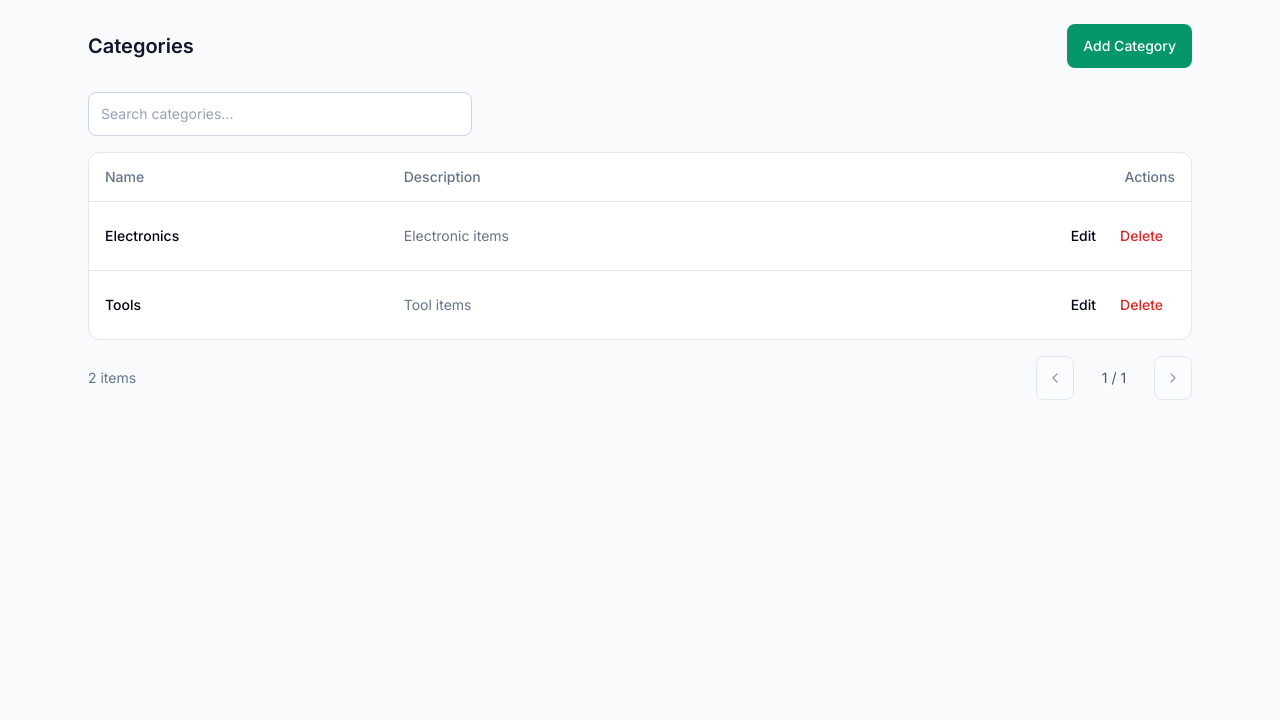
Test: CategoriesPage › cancels delete dialog
Click the button "Delete" in the row of "Electronics": (1142, 236) [1108,218,1175,254]
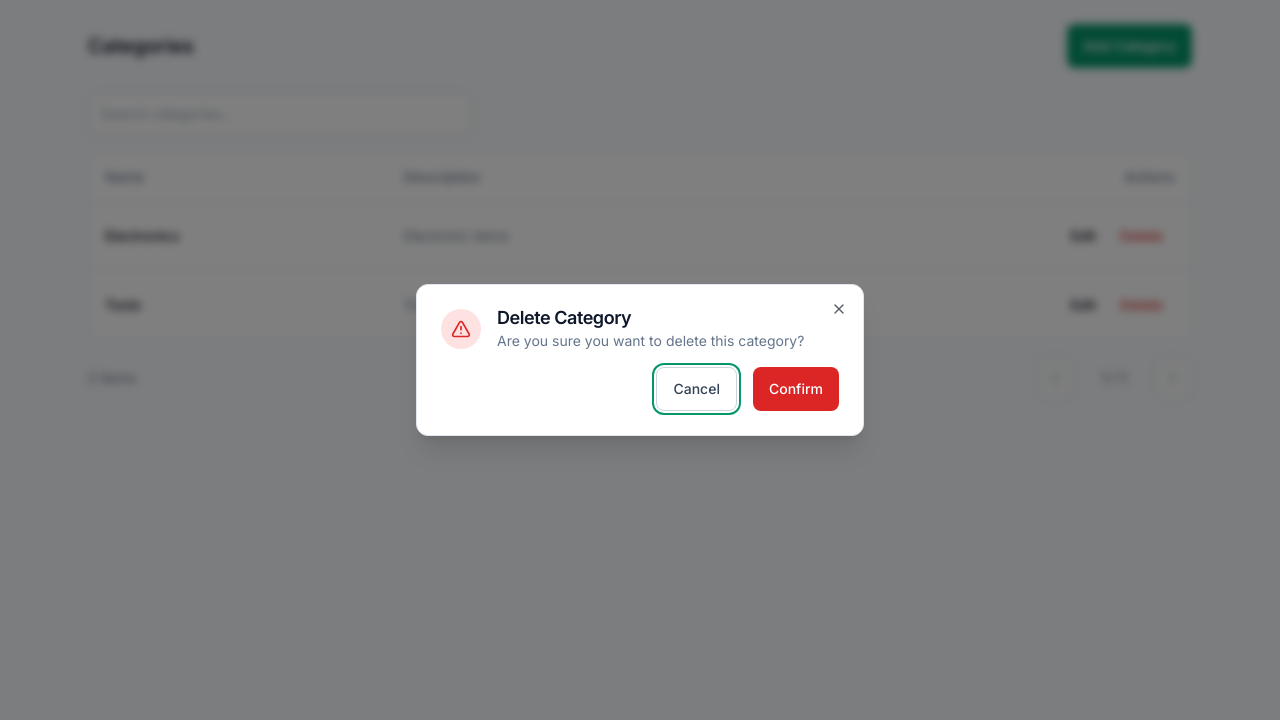
Click the button "Cancel": (697, 389) [656,367,737,411]
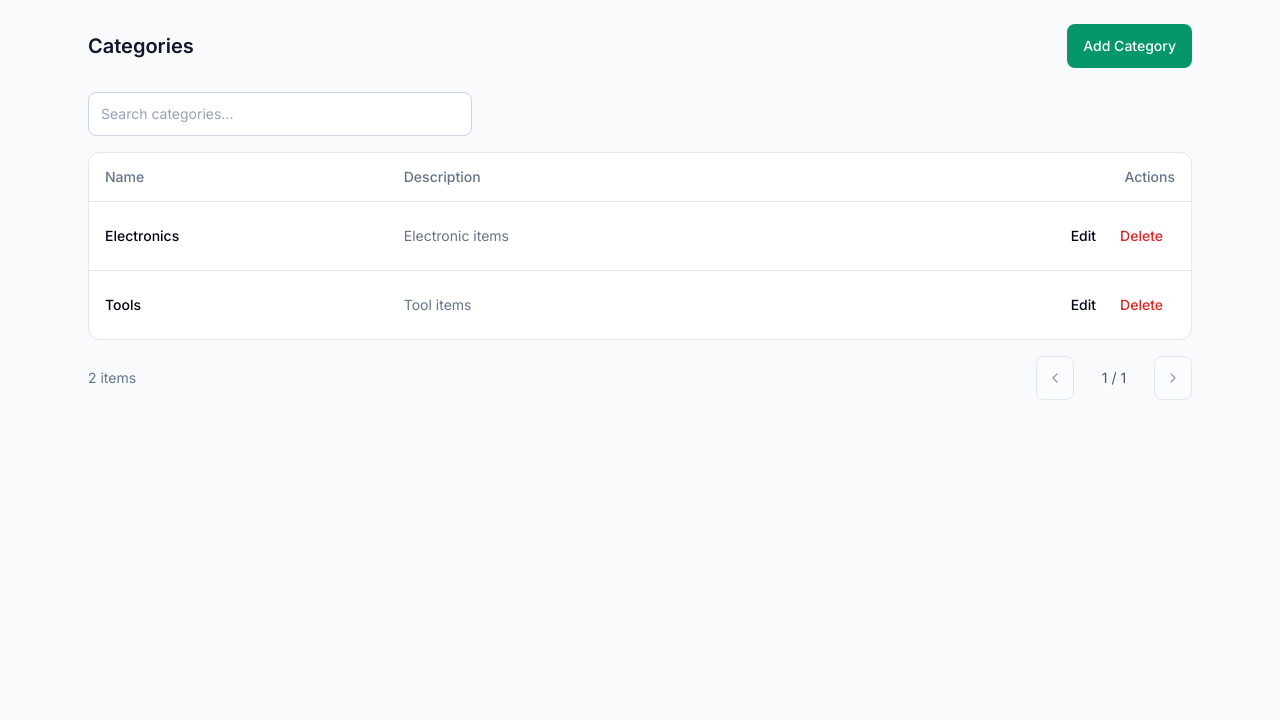
Now the dialog is gone
